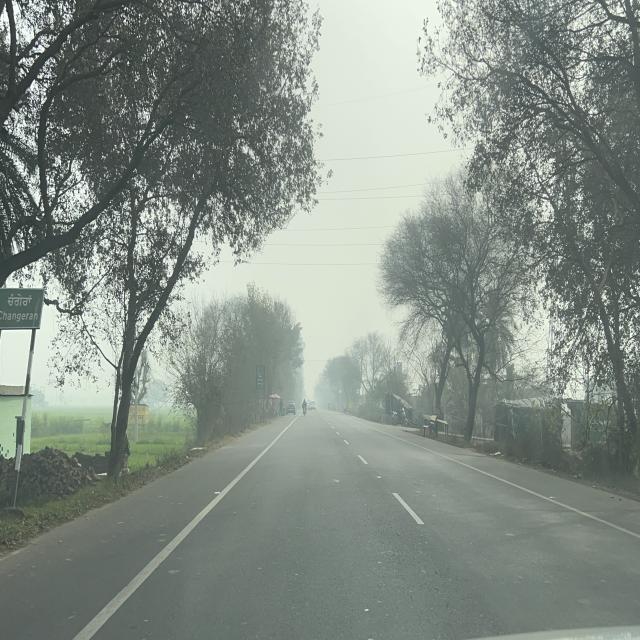GENERAL: (0, 284, 46, 326)
